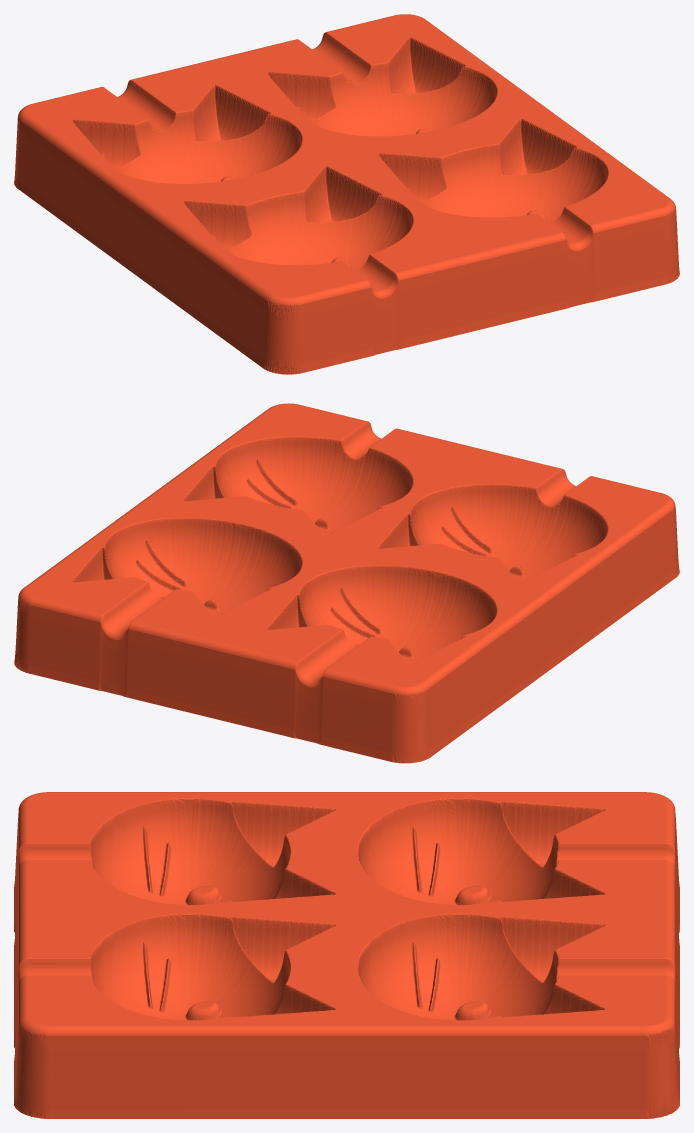
File: mold.glb
3 renders of one model, top to bottom at view 1: azimuth 30°, elevation 25°; view 2: azimuth 150°, elevation 25°; view 3: azimuth 270°, elevation 25°, orthographic. The views are drawn at different scales.
Visible parts, largest first — view 1: geometry_0; view 2: geometry_0; view 3: geometry_0.
Part boxes in pixels (left/top/right/bottom): geometry_0: left=14, top=14, right=679, bottom=374; geometry_0: left=14, top=403, right=679, bottom=763; geometry_0: left=14, top=792, right=679, bottom=1118.
Size of the model in its own units: 0.1468 by 0.0245 by 0.169.
